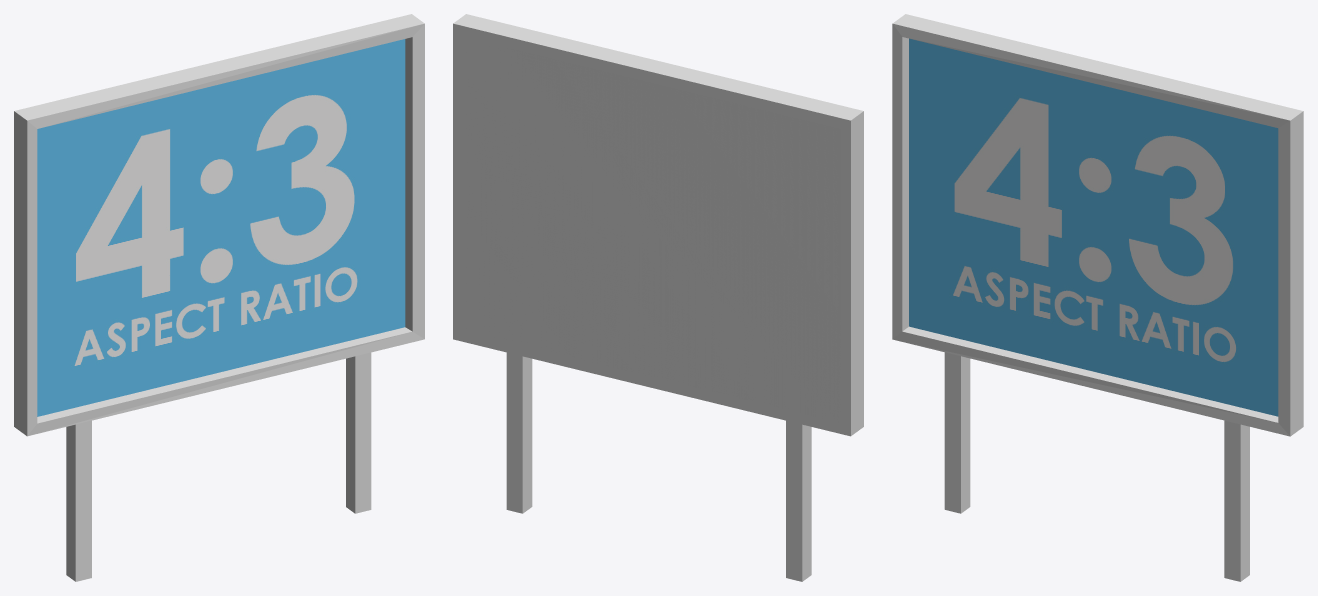
File: simple billboard 4-3 master.FBX
3 renders of one model, left to right at view 1: azimuth 30°, elevation 25°; view 2: azimuth 150°, elevation 25°; view 3: azimuth 330°, elevation 25°, orthographic.
Visible parts, largest first — view 1: Object01, Box01; view 2: Box01, Plane01; view 3: Object01, Box01.
Part boxes in pixels (bbox=[...]): Object01: bbox=[37, 39, 405, 416]; Box01: bbox=[14, 14, 424, 581]; Box01: bbox=[453, 14, 863, 581]; Plane01: bbox=[466, 39, 841, 422]; Object01: bbox=[909, 38, 1278, 416]; Box01: bbox=[892, 14, 1303, 581].
Size of what is drawn, in the model's own units: 12.48 by 14.25 by 0.723.
Materials: 2 (1 with a texture image).
